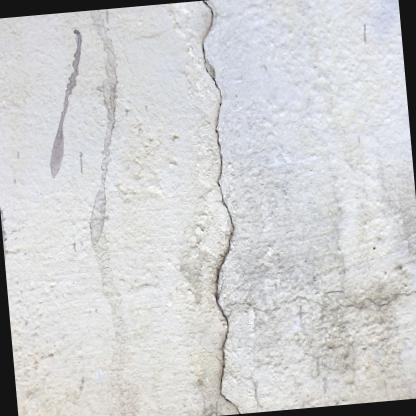crack: (201, 0, 241, 414)
